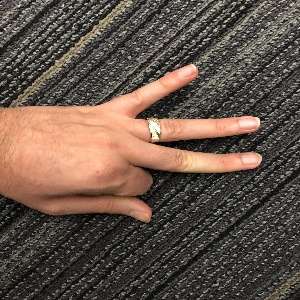hand: (9, 65, 262, 223)
